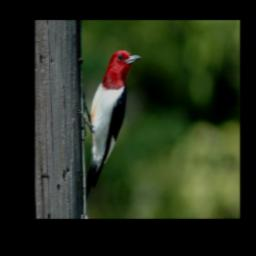Woodpecker: (74, 49, 142, 206)
